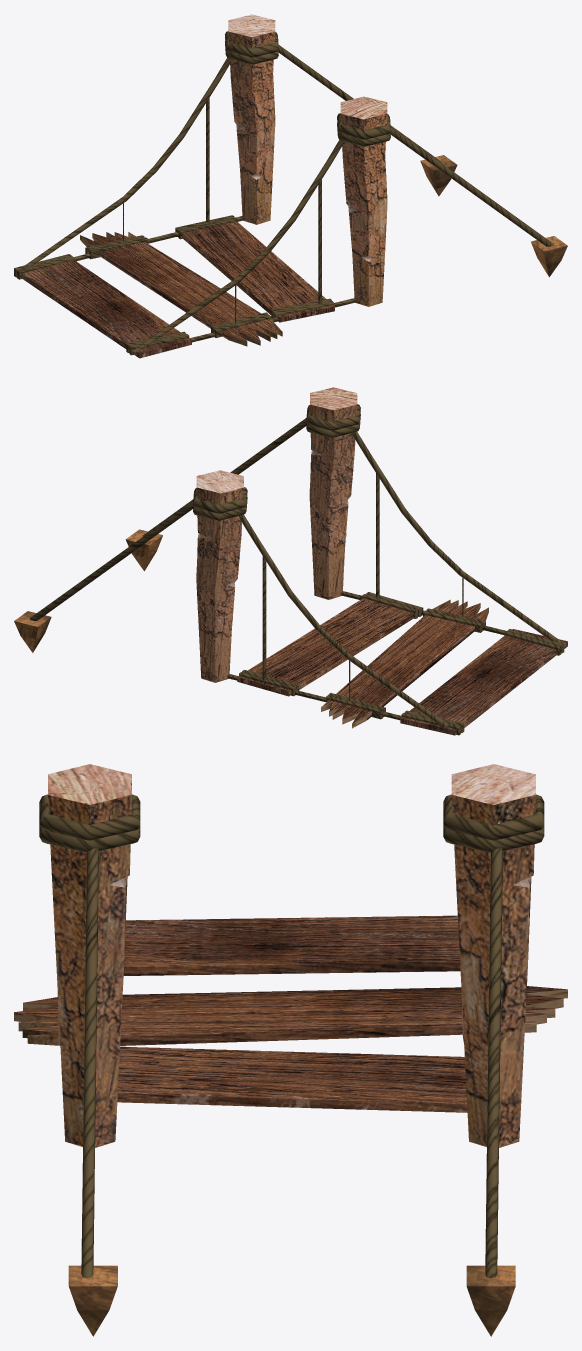
The model's file is Model_Bg_BridgeA.fbx.
3 views of the same model, one above another, from view 1: azimuth 30°, elevation 25°; view 2: azimuth 150°, elevation 25°; view 3: azimuth 270°, elevation 25° (orthographic). The views are drawn at different scales.
Visible parts, largest first — view 1: Model_Bg_Bridge1; view 2: Model_Bg_Bridge1; view 3: Model_Bg_Bridge1.
Part boxes in pixels (bbox=[...]): Model_Bg_Bridge1: bbox=[14, 14, 567, 358]; Model_Bg_Bridge1: bbox=[14, 387, 567, 735]; Model_Bg_Bridge1: bbox=[14, 764, 567, 1336].
Size of the model in its own units: 224 by 107 by 137.
